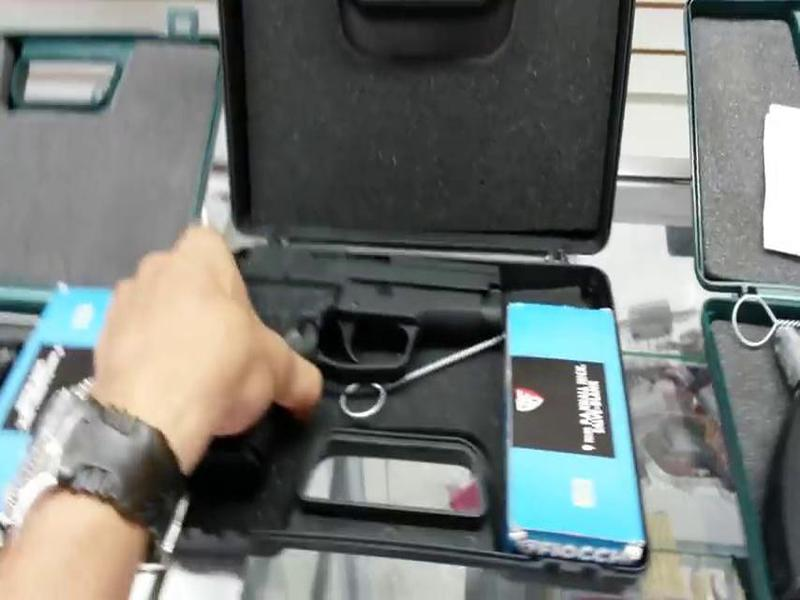Pistola: (176, 219, 577, 489)
